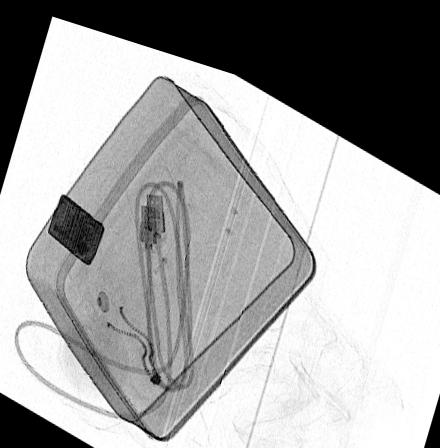Lighter: (46, 190, 104, 259)
